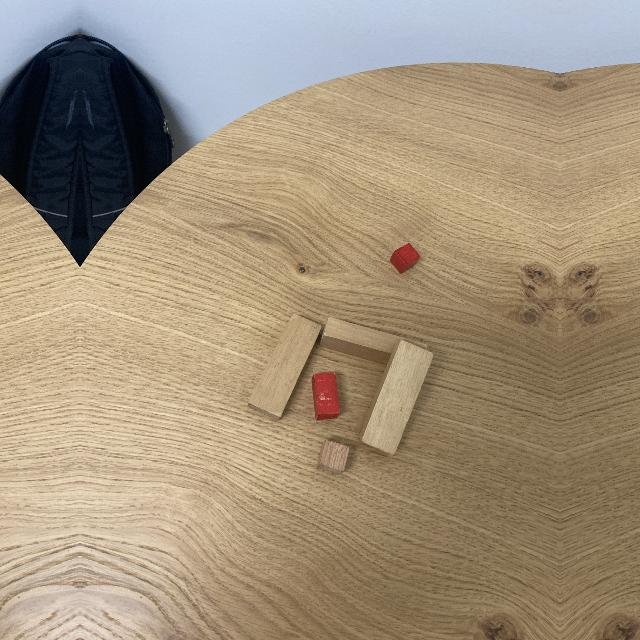cube: (315, 438, 351, 473)
jenga: (242, 311, 324, 424), (360, 338, 434, 458), (324, 316, 427, 363)
red block: (310, 374, 344, 421)
red cube: (390, 244, 420, 275)
